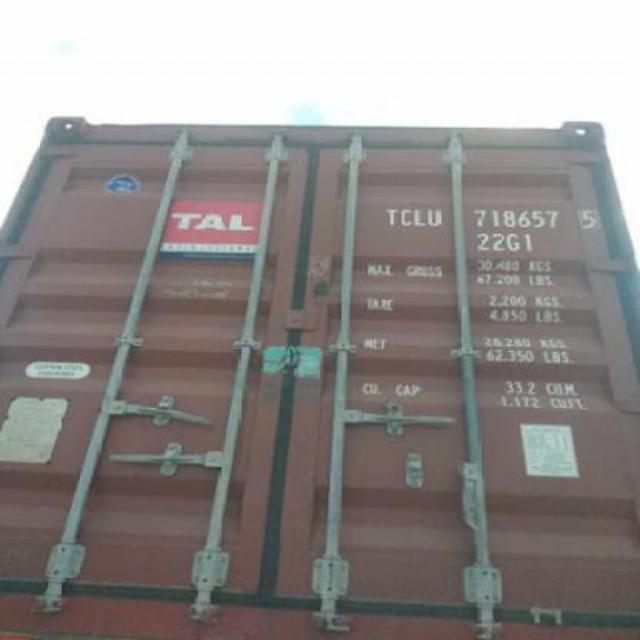1: (490, 208, 502, 230)
5: (582, 208, 598, 228), (532, 208, 546, 230)
6: (520, 208, 530, 228)
7: (542, 211, 558, 229), (472, 208, 486, 228)
8: (504, 209, 518, 229)
C: (398, 208, 412, 228)
L: (412, 206, 426, 230)
T: (384, 208, 398, 228)
U: (426, 208, 442, 228)
